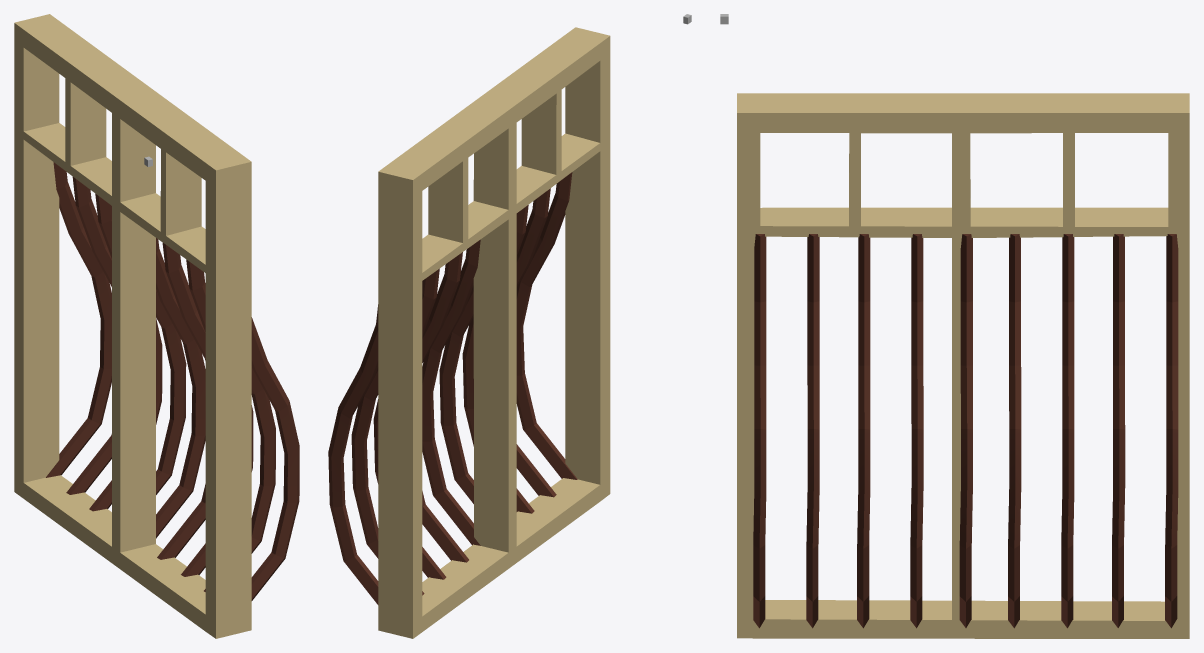
The model's file is window fence .fbx.
The picture shows the model from 3 angles, left to right: view 1: azimuth 30°, elevation 25°; view 2: azimuth 150°, elevation 25°; view 3: azimuth 270°, elevation 25°; orthographic projection. The views are drawn at different scales.
Parts seen in each view (by area): view 1: pCube7, pCylinder5, pCylinder1, pCylinder9, pCylinder7, pCylinder4, pCylinder2, pCylinder6, pCylinder8, pCylinder3; view 2: pCube7, pCylinder5, pCylinder9, pCylinder1, pCylinder4, pCylinder6, pCylinder7, pCylinder2, pCylinder3, pCylinder8; view 3: pCube7, pCylinder2, pCylinder8, pCylinder4, pCylinder3, pCylinder1, pCylinder5, pCylinder9, pCylinder7, pCylinder6.
Boxes of the visible parts, left/top/right/bottom form: pCube7: left=14, top=14, right=251, bottom=638; pCylinder5: left=46, top=162, right=111, bottom=477; pCylinder1: left=251, top=317, right=299, bottom=600; pCylinder9: left=156, top=238, right=205, bottom=538; pCylinder7: left=156, top=289, right=186, bottom=494; pCylinder4: left=157, top=243, right=205, bottom=559; pCylinder2: left=204, top=367, right=275, bottom=591; pCylinder6: left=66, top=177, right=111, bottom=494; pCylinder8: left=89, top=193, right=162, bottom=511; pCylinder3: left=181, top=259, right=253, bottom=576; pCube7: left=378, top=27, right=610, bottom=638; pCylinder5: left=328, top=304, right=378, bottom=604; pCylinder9: left=422, top=239, right=480, bottom=545; pCylinder1: left=516, top=172, right=577, bottom=479; pCylinder4: left=439, top=285, right=473, bottom=503; pCylinder6: left=351, top=367, right=424, bottom=595; pCylinder7: left=422, top=252, right=468, bottom=562; pCylinder2: left=516, top=188, right=556, bottom=497; pCylinder3: left=462, top=205, right=534, bottom=513; pCylinder8: left=373, top=268, right=446, bottom=579; pCube7: left=737, top=93, right=1189, bottom=638; pCylinder2: left=806, top=234, right=819, bottom=628; pCylinder8: left=1061, top=234, right=1074, bottom=628; pCylinder4: left=910, top=234, right=923, bottom=628; pCylinder3: left=857, top=234, right=870, bottom=628; pCylinder1: left=753, top=234, right=766, bottom=628; pCylinder5: left=1165, top=234, right=1178, bottom=628; pCylinder9: left=959, top=234, right=972, bottom=627; pCylinder7: left=1008, top=234, right=1021, bottom=628; pCylinder6: left=1112, top=234, right=1125, bottom=627.
Size of the model in its own units: 26.17 by 74.12 by 55.91.
